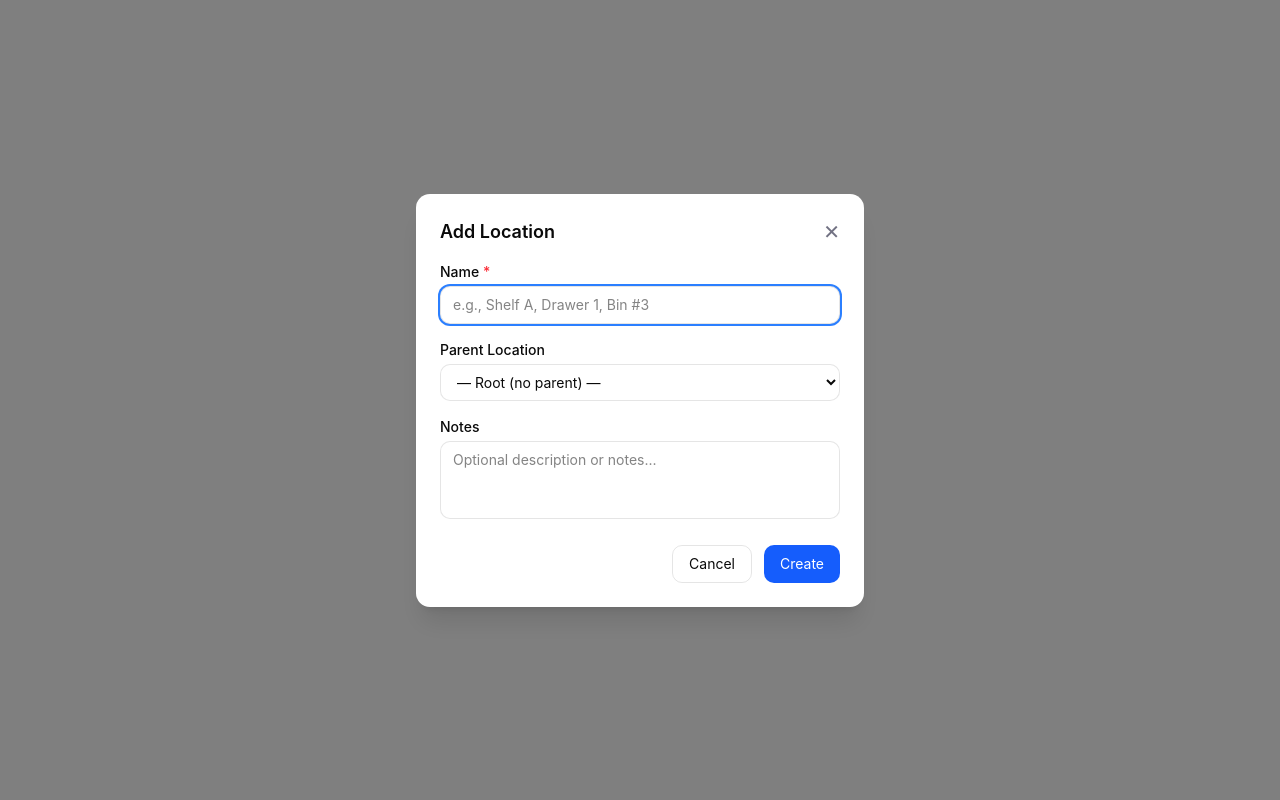
Scenario: LocationModal — interactions › shows network error message on fetch exception
This screenshot has width=1280, height=800.
Type "New Bin" into the field with placeholder "e.g., Shelf A, Drawer 1, Bin #3" at {"x": 640, "y": 304}, box [440,286,840,324]
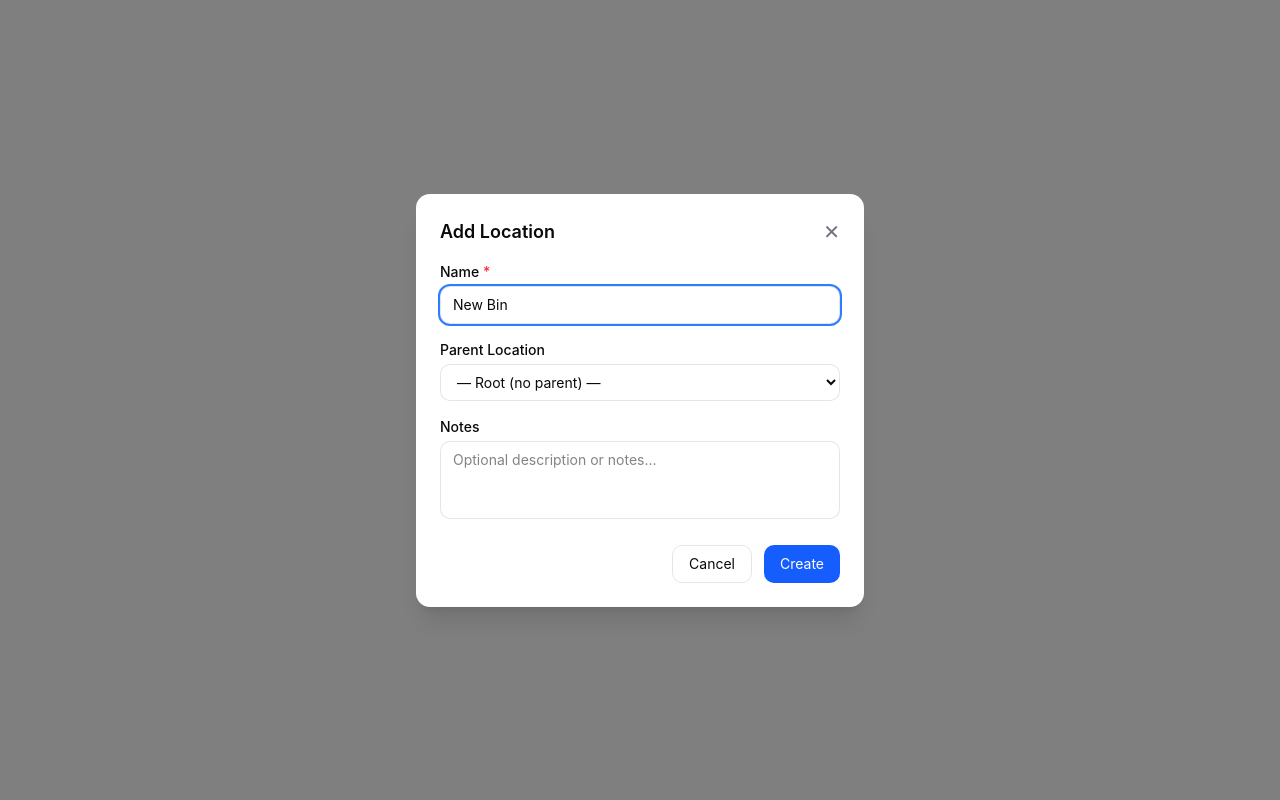
Click the button "Create" at {"x": 802, "y": 564}, box [764,544,840,582]
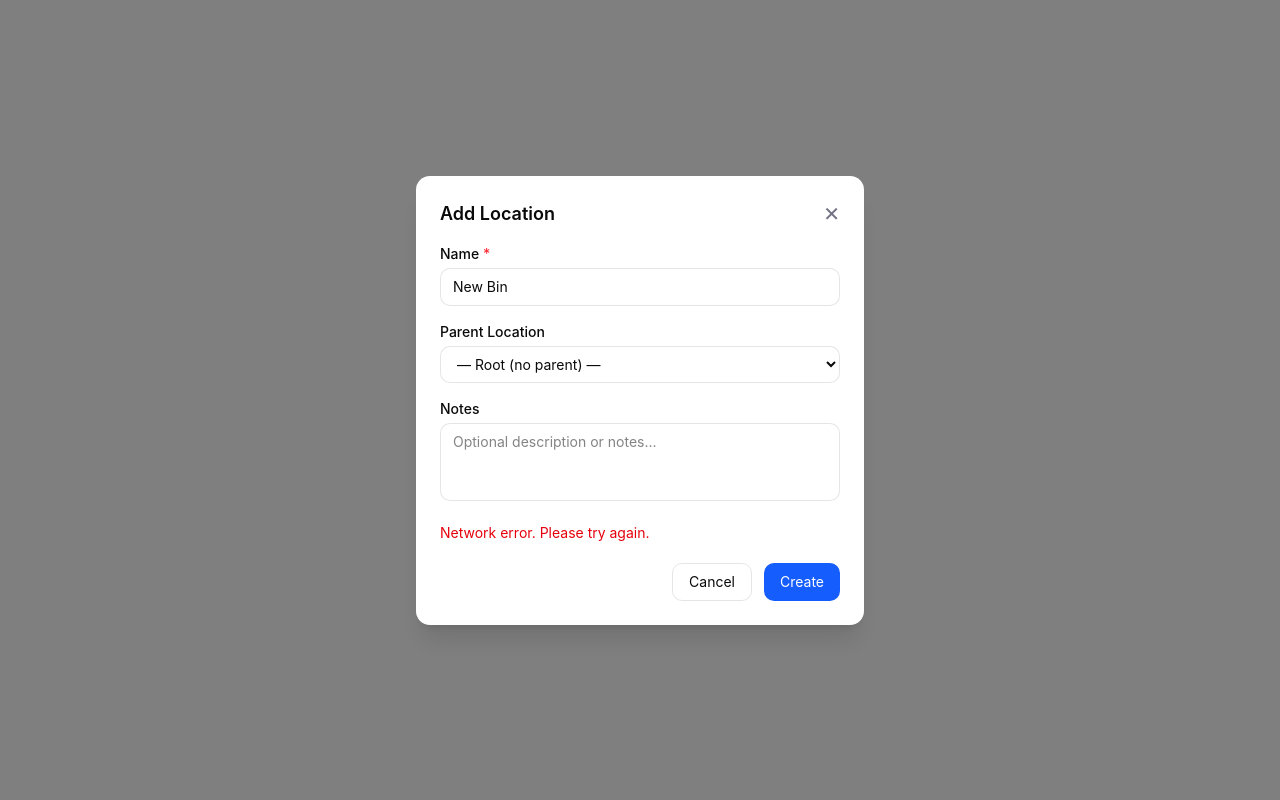
Now the text "Network error. Please try again." is shown, box [440,524,650,540]
